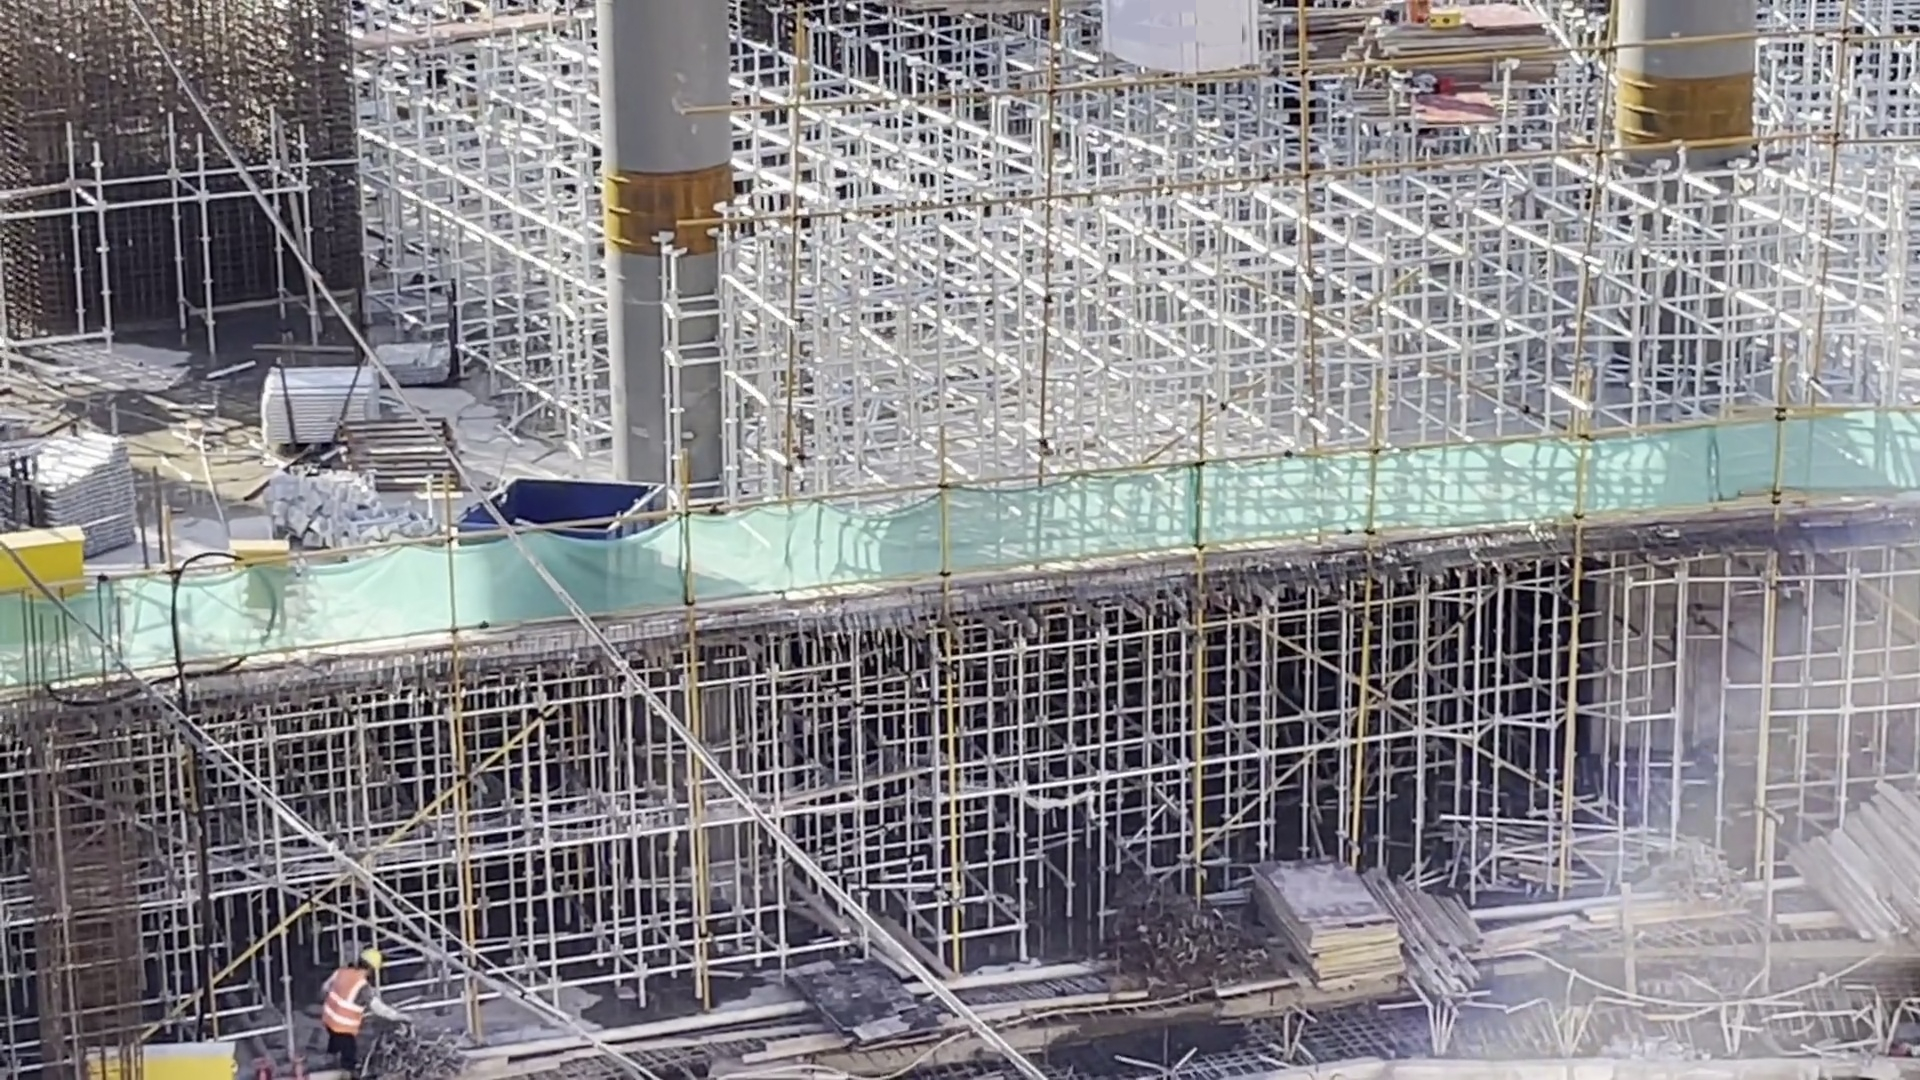board: (1253, 862, 1419, 981), (1395, 1, 1588, 94)
ebox: (186, 514, 276, 611), (3, 526, 108, 602), (73, 1042, 206, 1080)
helmet: (358, 942, 384, 970)
hopper: (523, 499, 713, 629)
person: (329, 946, 383, 1061)
scaffold: (1, 416, 118, 544), (279, 362, 386, 441)
vest: (319, 976, 363, 1034)
wood: (1803, 762, 1920, 887)
